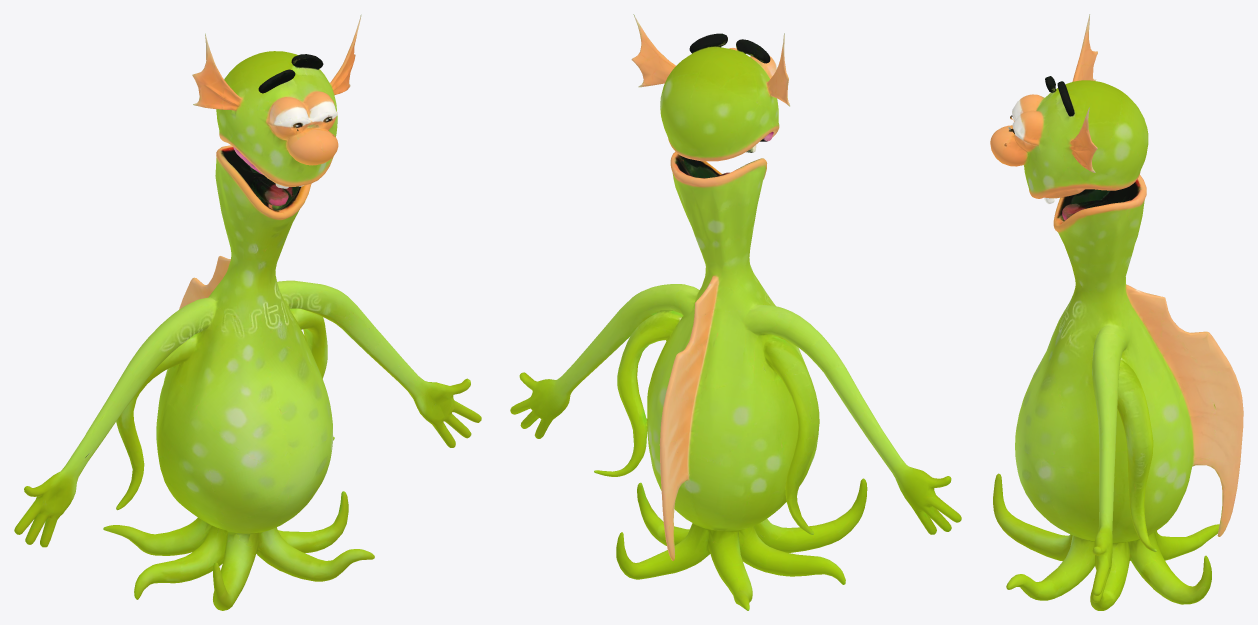
File: monster2.glb
3 views of the same model, side by side, from view 1: azimuth 30°, elevation 25°; view 2: azimuth 150°, elevation 25°; view 3: azimuth 270°, elevation 25° (orthographic). The views are drawn at different scales.
Size of the model in its own units: 1.67 by 1.9 by 0.8041.
Materials: 1 (1 with a texture image).
